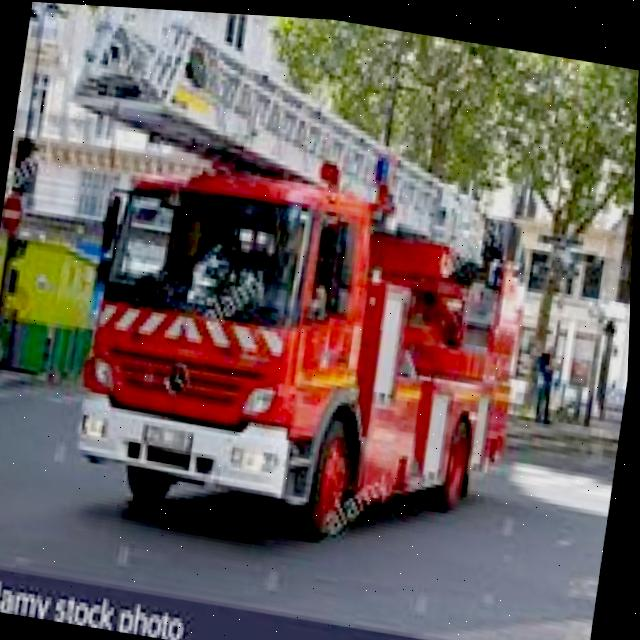emergency: (23, 12, 558, 557)
